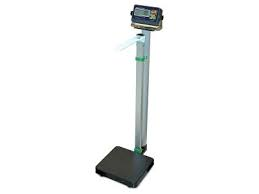Industrial Scale: (94, 4, 165, 188)
